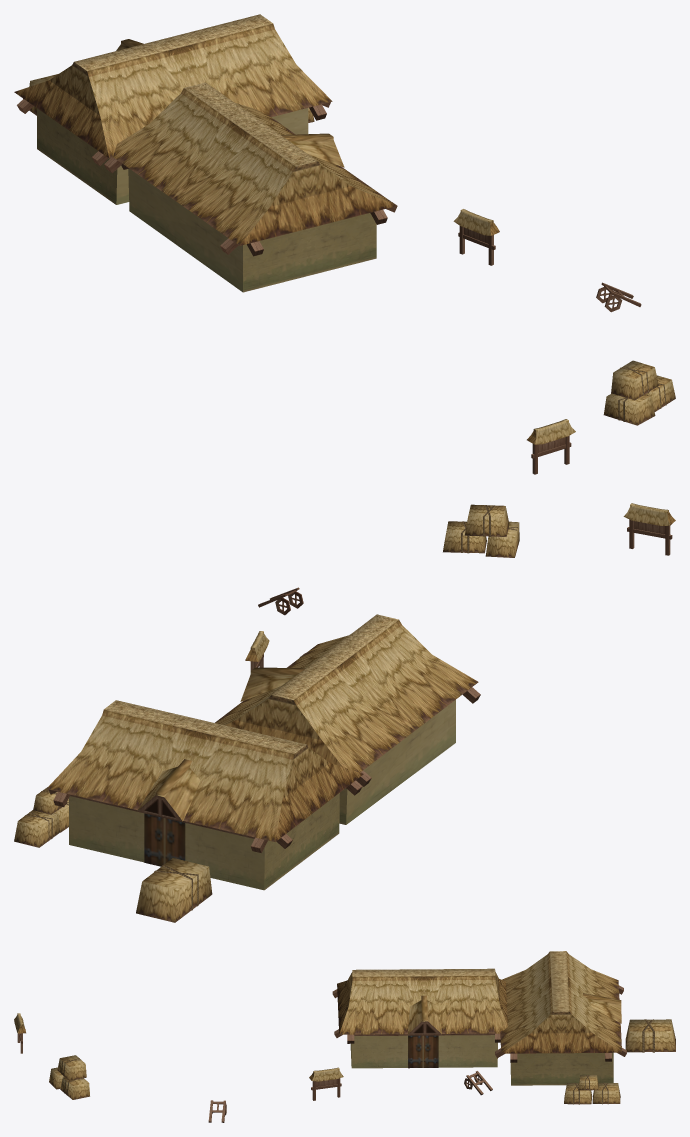
File: Area_09_1.fbx
3 views of the same model, one above another, from view 1: azimuth 30°, elevation 25°; view 2: azimuth 150°, elevation 25°; view 3: azimuth 270°, elevation 25° (orthographic). The views are drawn at different scales.
Parts seen in each view (by area): view 1: Area_09_1; view 2: Area_09_1; view 3: Area_09_1.
Part boxes in pixels (<box>): Area_09_1: <box>14,14,675,474</box>; Area_09_1: <box>14,503,675,922</box>; Area_09_1: <box>14,951,675,1122</box>.
Size of the model in its own units: 2203 by 770 by 5961.
